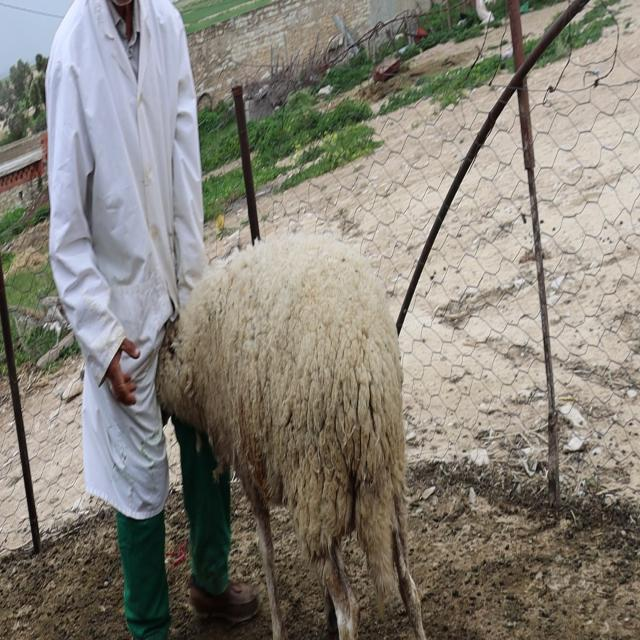Score_3: (156, 236, 426, 639)
